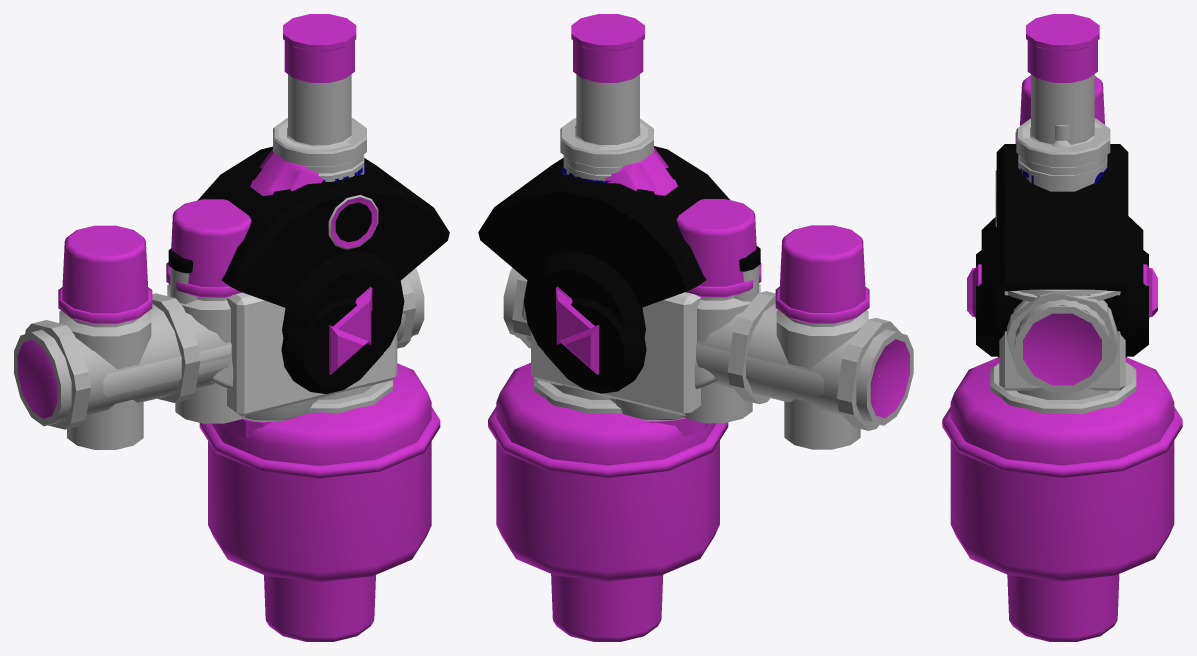
The model's file is Items_Sanitary.fbx.
3 renders of one model, left to right at view 1: azimuth 30°, elevation 25°; view 2: azimuth 150°, elevation 25°; view 3: azimuth 270°, elevation 25°, orthographic.
Visible parts, largest first — view 1: H_4.1_pressure_regulator_R, L_5.2_Faucet_exit, A_1.1_pump, C_2.1_pump_boxed, D_3.1_R, N_6.2_filter, O_6.1_pressure_regulator, Q_7.2_air_extractor, K_5.1_T_connector; view 2: H_4.1_pressure_regulator_R, L_5.2_Faucet_exit, A_1.1_pump, C_2.1_pump_boxed, D_3.1_R, N_6.2_filter, O_6.1_pressure_regulator, Q_7.2_air_extractor, K_5.1_T_connector; view 3: H_4.1_pressure_regulator_R, A_1.1_pump, D_3.1_R, N_6.2_filter, K_5.1_T_connector, C_2.1_pump_boxed, Q_7.2_air_extractor, L_5.2_Faucet_exit, S_7.4_air_extractor.
Part boxes in pixels (x1=…): H_4.1_pressure_regulator_R: x1=199, y1=363, x2=440, y2=581; L_5.2_Faucet_exit: x1=14, y1=199, x2=397, y2=449; A_1.1_pump: x1=197, y1=146, x2=449, y2=362; C_2.1_pump_boxed: x1=186, y1=292, x2=397, y2=416; D_3.1_R: x1=283, y1=14, x2=378, y2=249; N_6.2_filter: x1=264, y1=380, x2=392, y2=641; O_6.1_pressure_regulator: x1=151, y1=149, x2=323, y2=438; Q_7.2_air_extractor: x1=273, y1=118, x2=366, y2=181; K_5.1_T_connector: x1=397, y1=268, x2=424, y2=348; H_4.1_pressure_regulator_R: x1=488, y1=363, x2=728, y2=581; L_5.2_Faucet_exit: x1=525, y1=199, x2=913, y2=449; A_1.1_pump: x1=478, y1=146, x2=729, y2=362; C_2.1_pump_boxed: x1=504, y1=278, x2=742, y2=416; D_3.1_R: x1=563, y1=14, x2=644, y2=181; N_6.2_filter: x1=534, y1=378, x2=663, y2=641; O_6.1_pressure_regulator: x1=604, y1=148, x2=777, y2=436; Q_7.2_air_extractor: x1=560, y1=118, x2=653, y2=182; K_5.1_T_connector: x1=503, y1=268, x2=530, y2=348; H_4.1_pressure_regulator_R: x1=942, y1=357, x2=1182, y2=581; A_1.1_pump: x1=972, y1=144, x2=1152, y2=392; D_3.1_R: x1=995, y1=14, x2=1107, y2=226; N_6.2_filter: x1=990, y1=362, x2=1136, y2=641; K_5.1_T_connector: x1=1007, y1=292, x2=1117, y2=393; C_2.1_pump_boxed: x1=967, y1=250, x2=1157, y2=390; Q_7.2_air_extractor: x1=1016, y1=118, x2=1110, y2=184; L_5.2_Faucet_exit: x1=1007, y1=75, x2=1117, y2=341; S_7.4_air_extractor: x1=1008, y1=289, x2=1116, y2=301.
Size of the model in its own units: 47.73 by 70.1 by 25.72.
